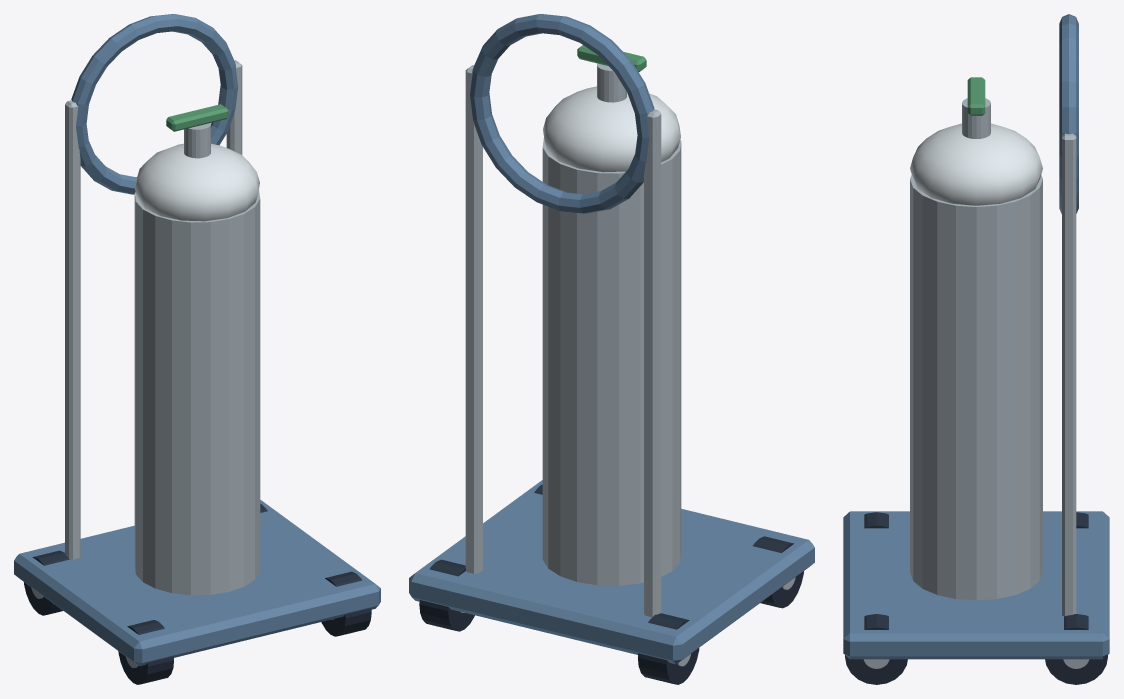
Rendered from ward_08.glb.
3 views of the same model, side by side, from view 1: azimuth 30°, elevation 25°; view 2: azimuth 150°, elevation 25°; view 3: azimuth 270°, elevation 25° (orthographic). The views are drawn at different scales.
Parts seen in each view (by area): view 1: OxygenCylinder, OxygenCartBase, CartBack (×2), TankShoulder, OxygenCartGrip, Wheel (×3), ValveGrip, TankValve; view 2: OxygenCylinder, OxygenCartBase, CartBack (×2), OxygenCartGrip, TankShoulder, Wheel (×3), TankValve; view 3: OxygenCylinder, OxygenCartBase, TankShoulder, CartBack, Wheel (×2), OxygenCartGrip, TankValve, ValveGrip.
Part boxes in pixels (x1,y1,x2,y2): OxygenCylinder: (134,190,260,595); OxygenCartBase: (14,500,380,666); CartBack (×2): (65,60,242,559); TankShoulder: (135,143,259,221); OxygenCartGrip: (71,14,237,194); Wheel (×3): (24,550,371,684); ValveGrip: (166,104,228,131); TankValve: (184,123,210,158); OxygenCylinder: (542,138,681,585); OxygenCartBase: (409,480,814,664); CartBack (×2): (465,65,661,617); OxygenCartGrip: (470,14,654,213); TankShoulder: (543,86,680,172); Wheel (×3): (419,536,803,684); TankValve: (597,63,626,102); OxygenCylinder: (910,175,1042,600); OxygenCartBase: (843,511,1109,659); TankShoulder: (910,123,1042,205); CartBack: (1062,133,1076,616); Wheel (×2): (845,614,1107,684); OxygenCartGrip: (1059,14,1078,213); TankValve: (962,98,990,138); ValveGrip: (967,77,985,115).
Bounding box in the file's own units: 0.52 × 1.15 × 0.46.
